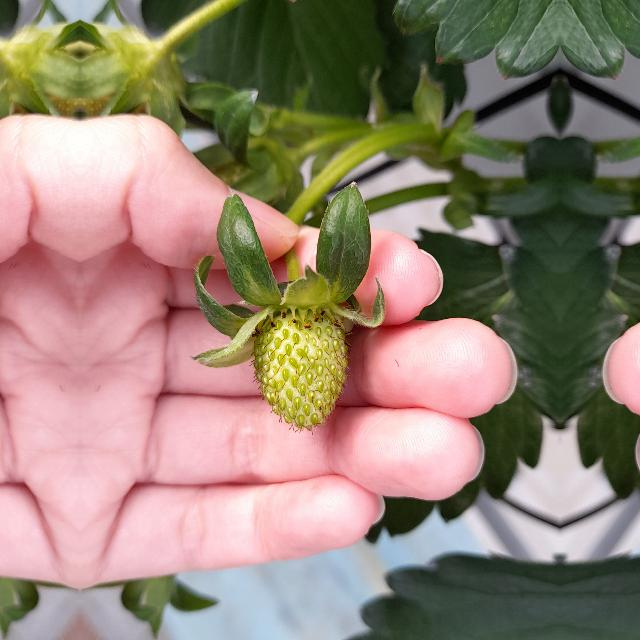Health_25: (248, 310, 352, 436)
